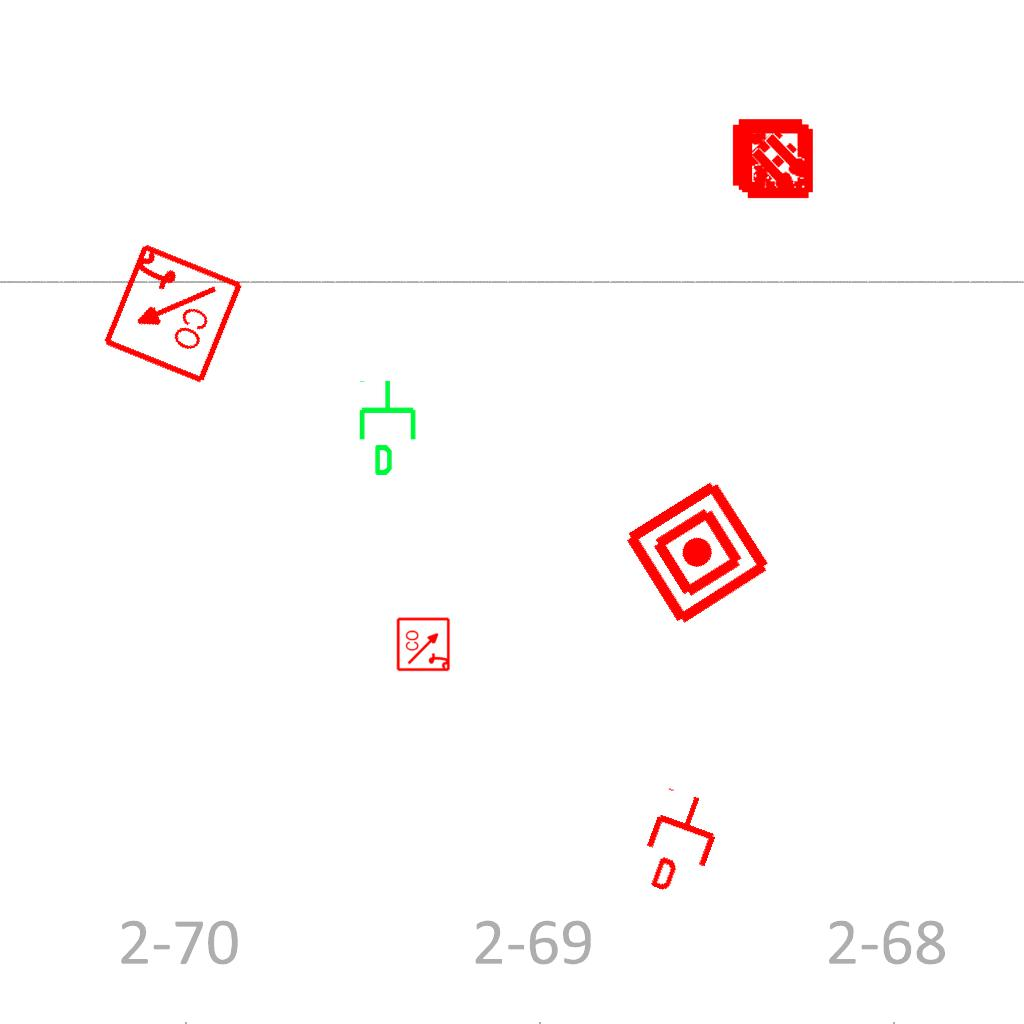Datenanschluss_einfach: (630, 784, 731, 902), (355, 378, 424, 478)
NAM-Nichtautomatischer_Melder: (619, 474, 776, 631)
OT_Multisensormelder_(Kombination_RMO_WMD): (711, 98, 824, 211), (721, 107, 834, 220)
ROA_Rauchmelder_optisch_mit_Signalgeber_(Sockelsirene): (97, 239, 246, 388), (396, 616, 452, 672)
